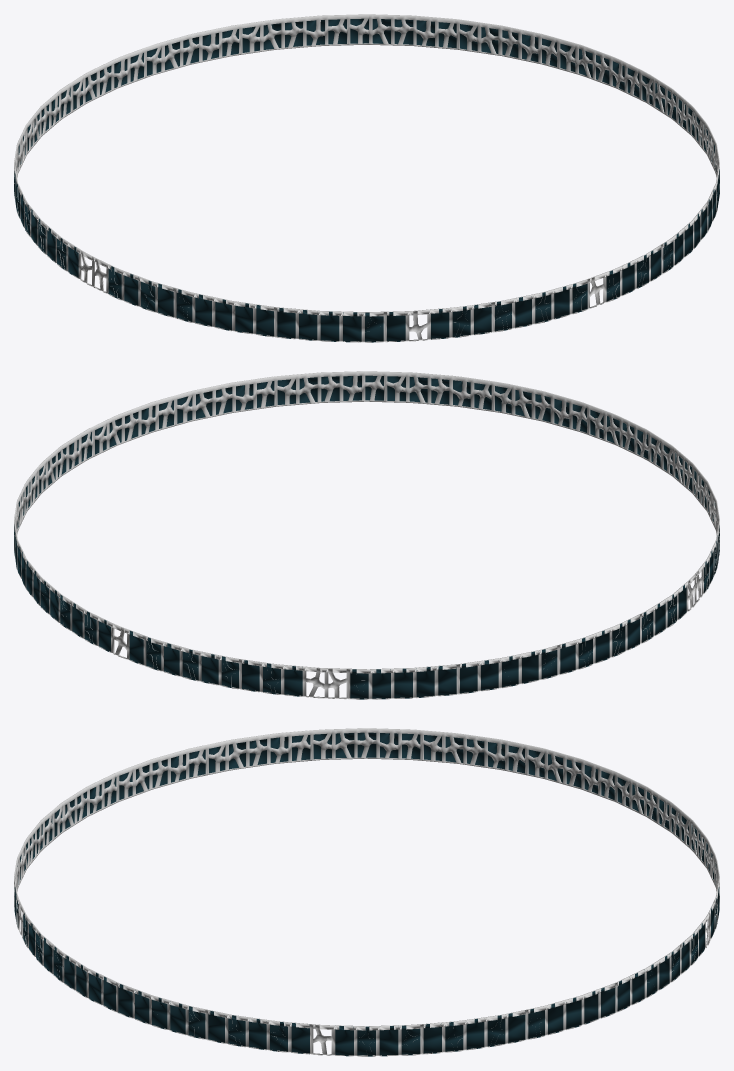
The model's file is Kompan Facade Half Size.fbx.
3 views of the same model, one above another, from view 1: azimuth 30°, elevation 25°; view 2: azimuth 150°, elevation 25°; view 3: azimuth 270°, elevation 25° (orthographic).
Visible parts, largest first — view 1: Kompan Facade; view 2: Kompan Facade; view 3: Kompan Facade.
Boxes of the visible parts, x1,y1,x2,y2 form: Kompan Facade: (14, 14, 719, 342); Kompan Facade: (14, 371, 719, 699); Kompan Facade: (14, 728, 719, 1056).
Bounding box in the file's own units: 5099 × 240 × 5099.
